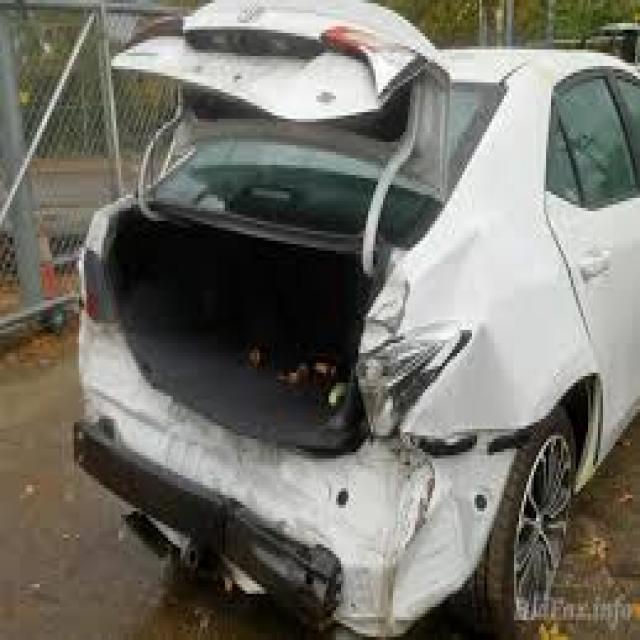damaged-trunk: (116, 12, 442, 198)
